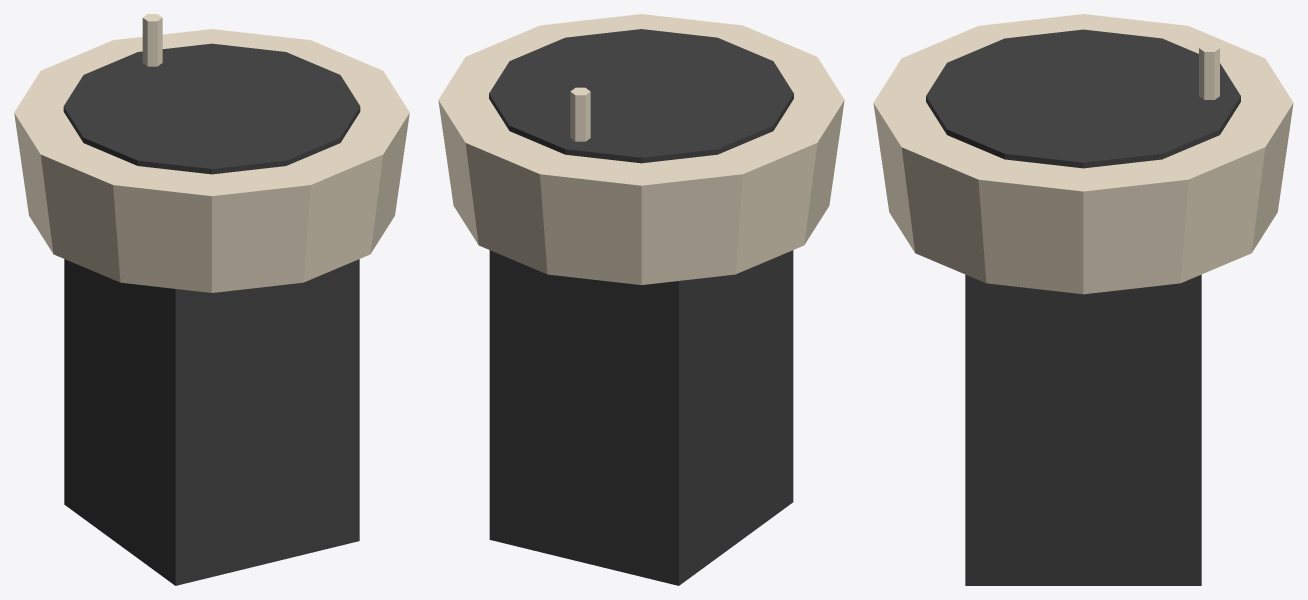
3 views of the same model, side by side, from view 1: azimuth 30°, elevation 25°; view 2: azimuth 150°, elevation 25°; view 3: azimuth 270°, elevation 25° (orthographic). The views are drawn at different scales.
Parts seen in each view (by area): view 1: Pedestal, Bowl, Inset, Tap; view 2: Pedestal, Bowl, Inset, Tap; view 3: Pedestal, Bowl, Inset, Tap.
Boxes of the visible parts, x1,y1,x2,y2 form: Pedestal: (64, 259, 359, 585); Bowl: (14, 29, 409, 292); Inset: (63, 43, 360, 174); Tap: (142, 14, 162, 66); Pedestal: (489, 250, 793, 585); Bowl: (438, 14, 844, 284); Inset: (489, 29, 793, 163); Tap: (570, 87, 590, 141); Pedestal: (965, 274, 1201, 585); Bowl: (873, 14, 1293, 294); Inset: (926, 29, 1240, 168); Tap: (1199, 44, 1219, 99).
Bounding box in the file's own units: 0.8 × 1.03 × 0.8.
1 material, 1 textured.
